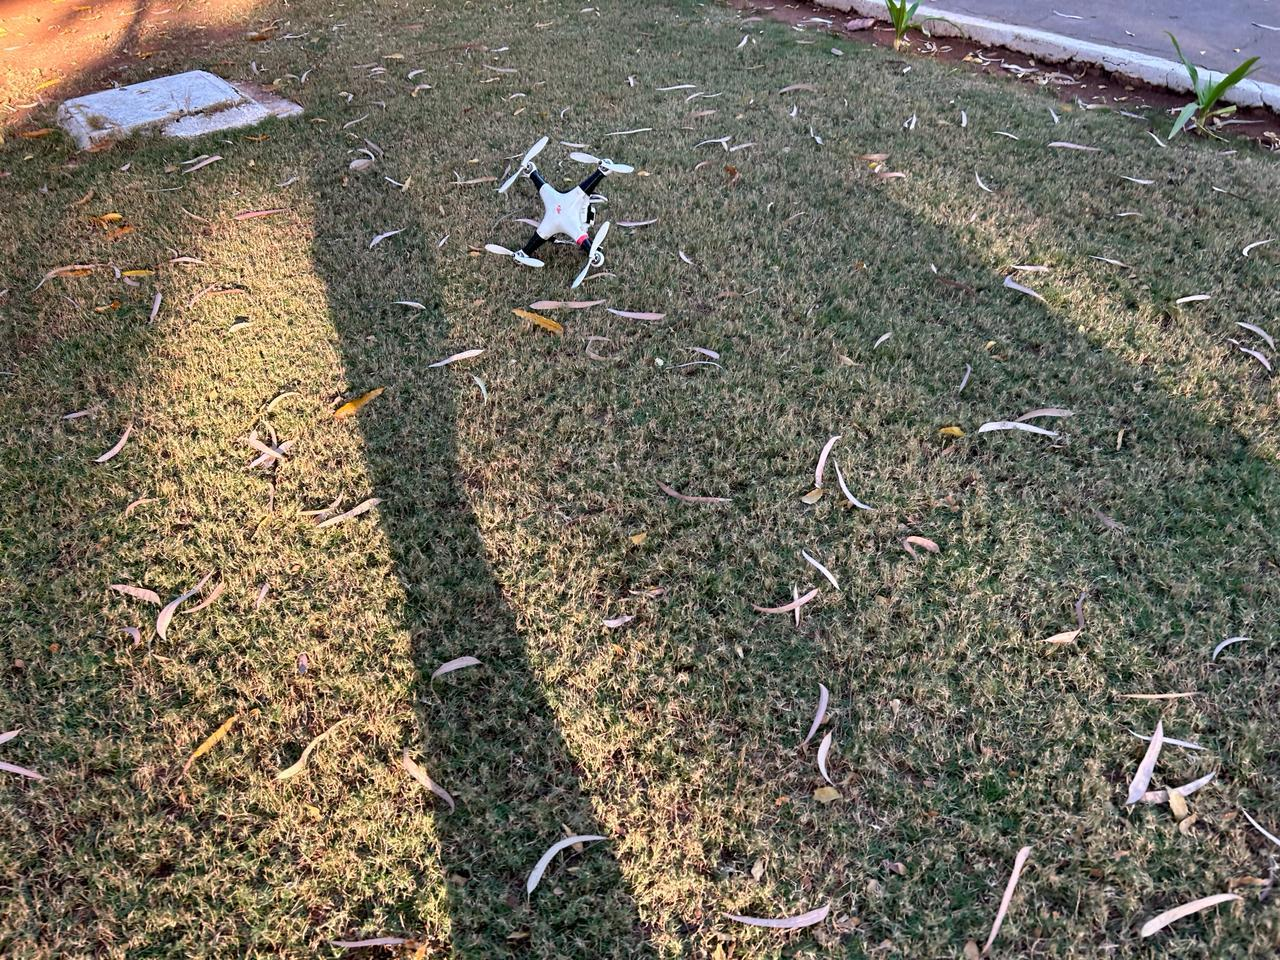drone: (469, 107, 668, 323)
